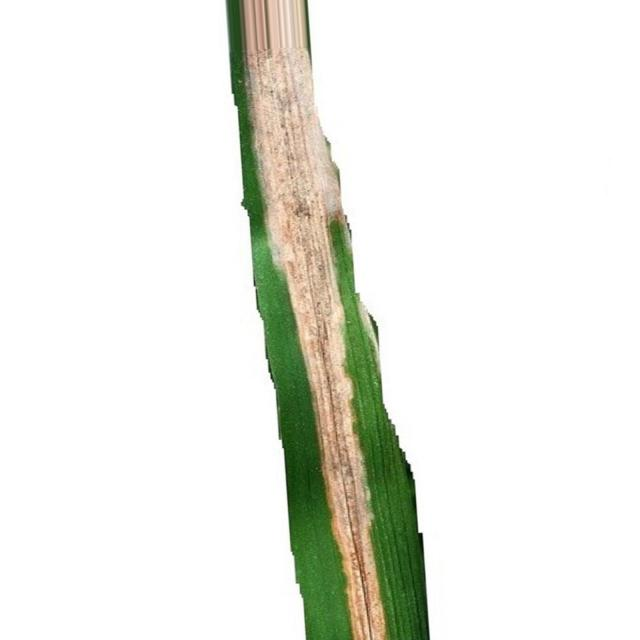Bacterial_Leaf_Blight: (246, 40, 386, 640)
